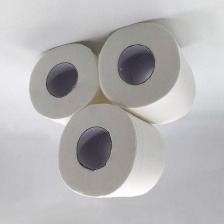tissue: (51, 98, 171, 203), (93, 17, 200, 131), (25, 38, 120, 130)
